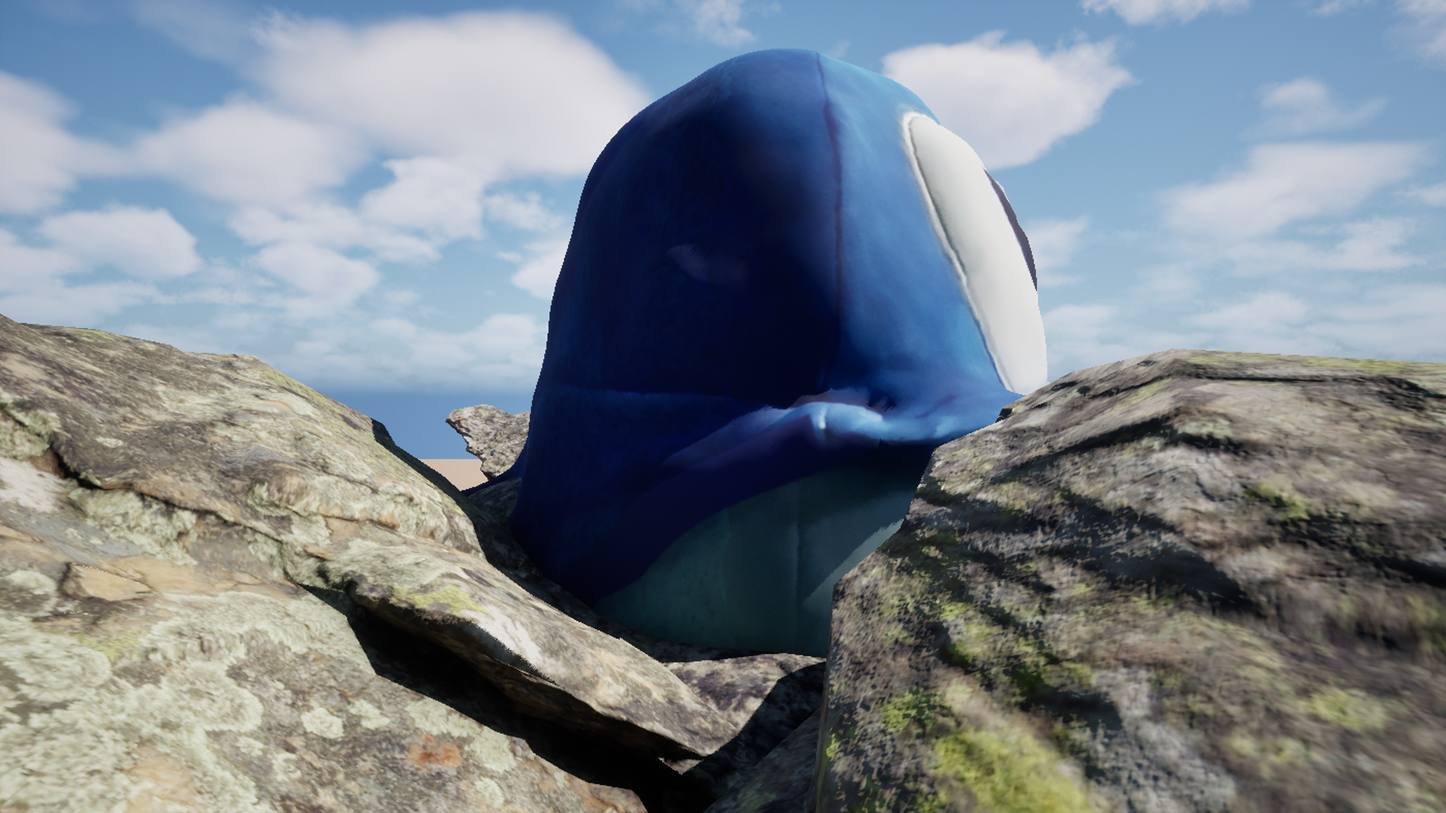Piplup: (170, 0, 1231, 813)
